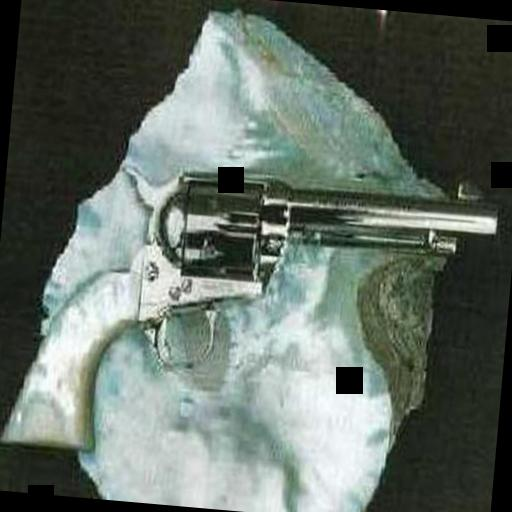Handgun: (0, 141, 500, 480)
